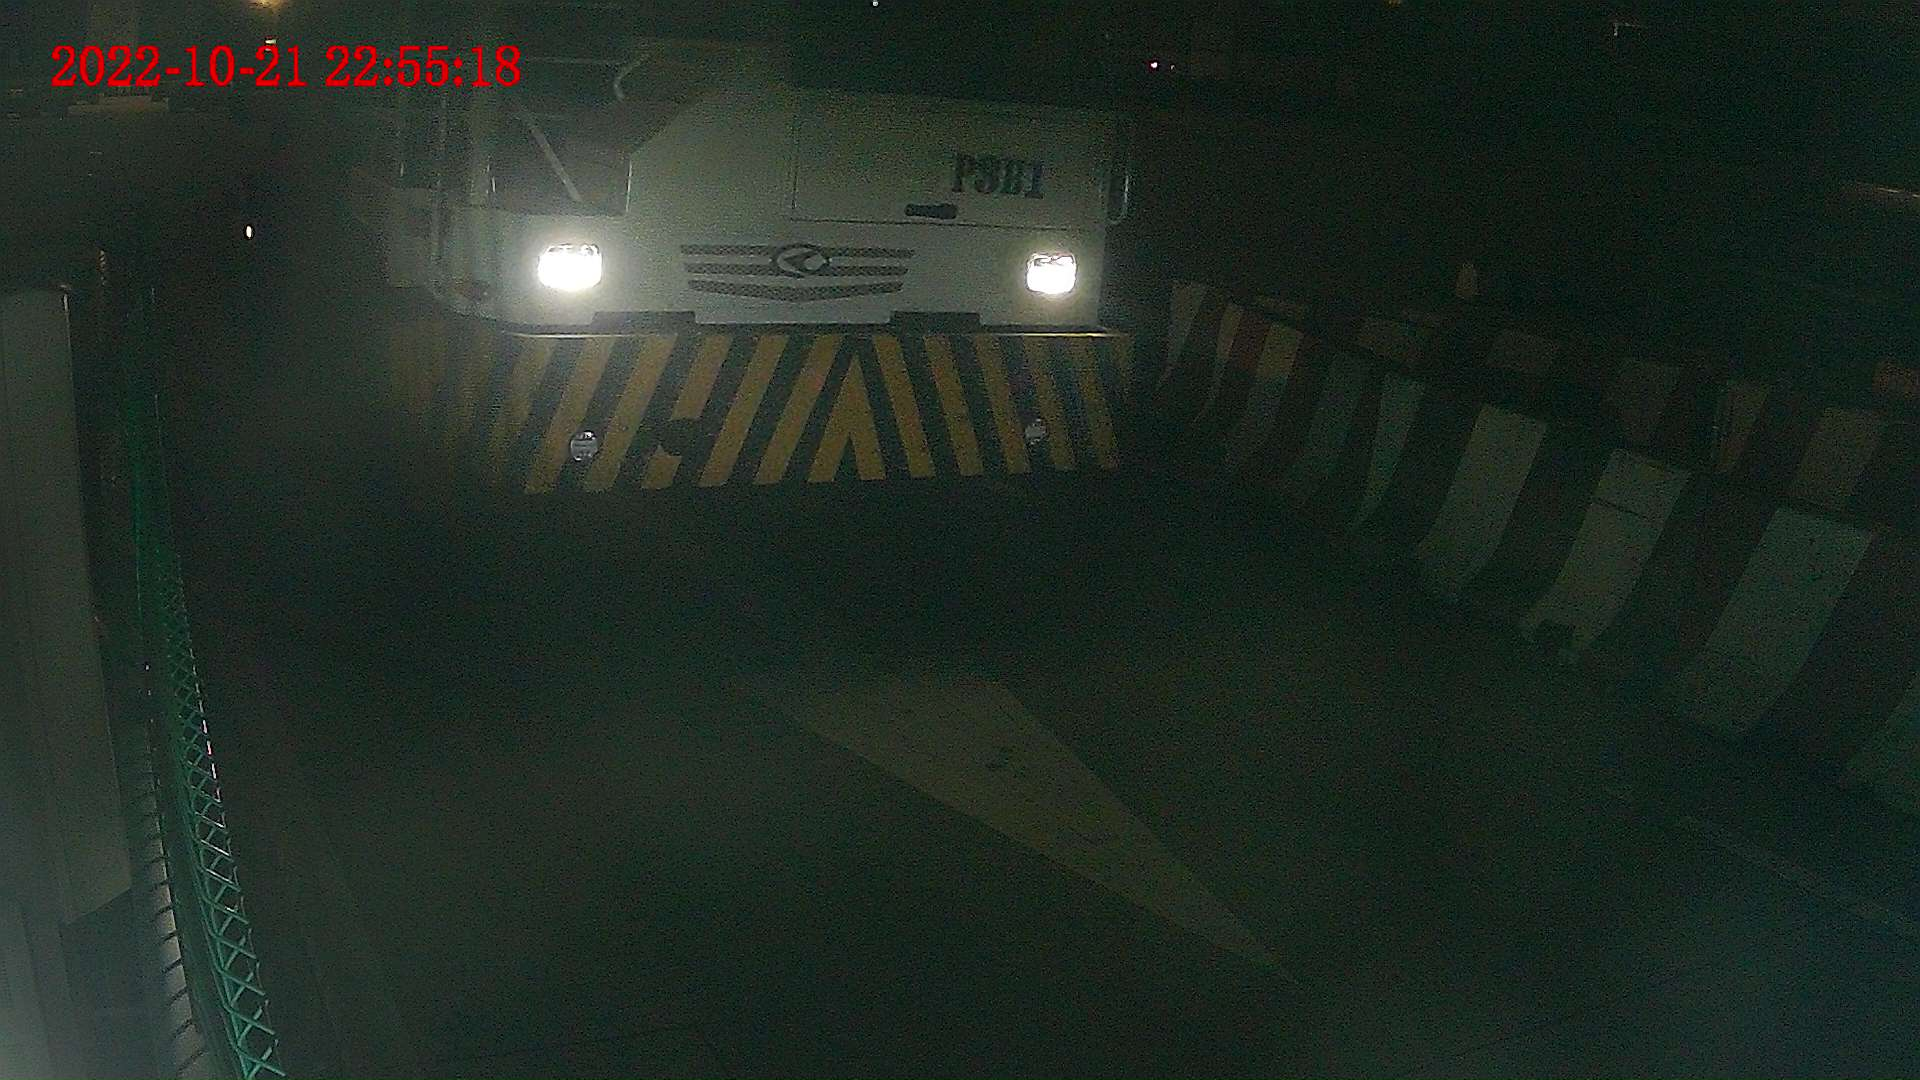head: (346, 1, 1142, 524)
